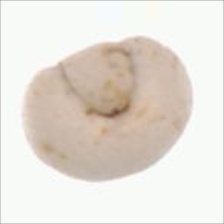L5: (55, 40, 142, 120)
L6: (19, 35, 194, 184)
